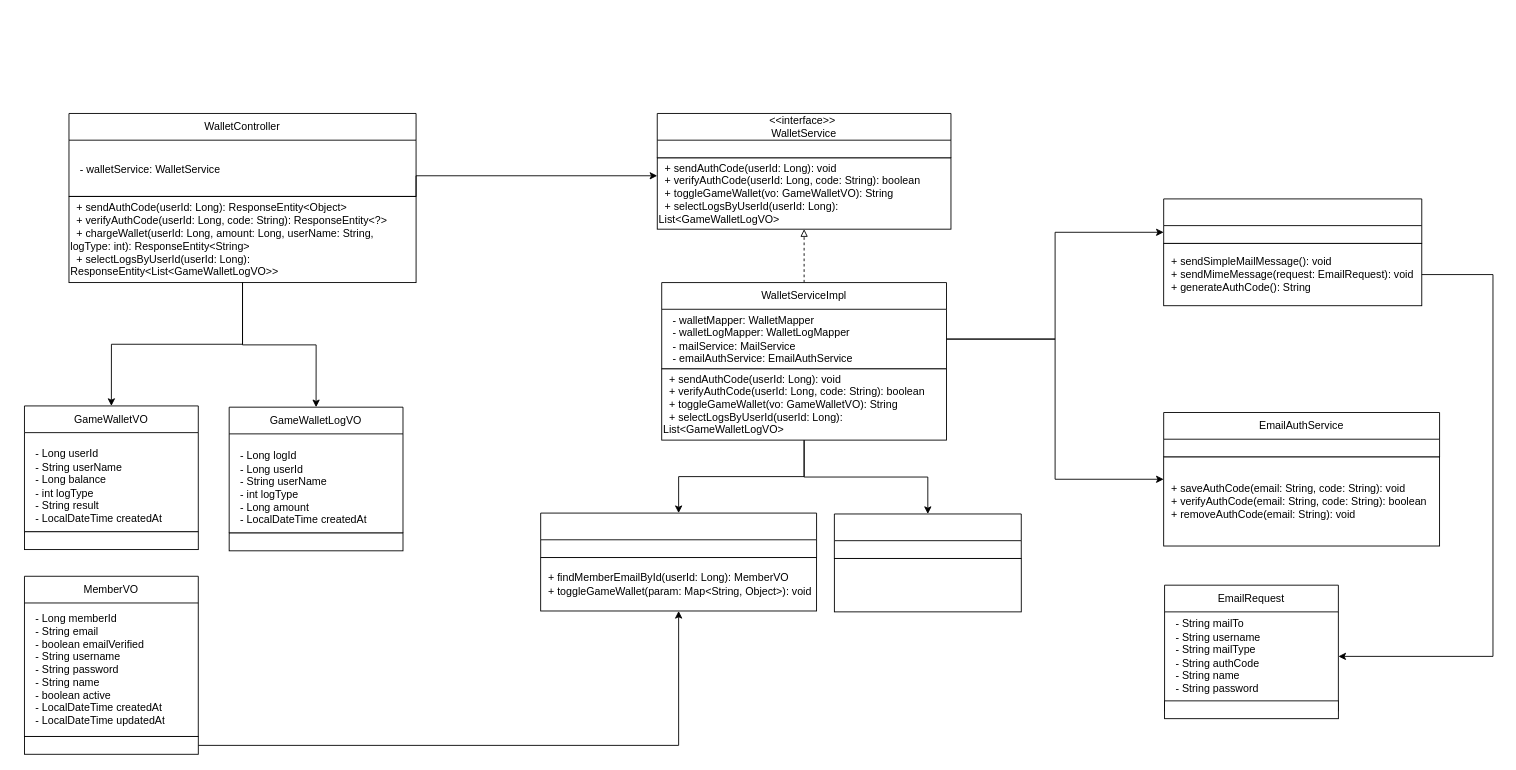
This 1516x770 diagram has some shape labels left out. The shapes that lost their labels are listed below. From the top down, each one's centre as x and y in pixels, then its label:
At point 1292,220: "MailService".
At point 678,535: "<<interface>> WalletMapper".
At point 927,535: "<<interface>> WalletLogMapper".
At point 927,585: "+ selectLogsByUserId(userId: Long): List<GameWalletLogVO>".
